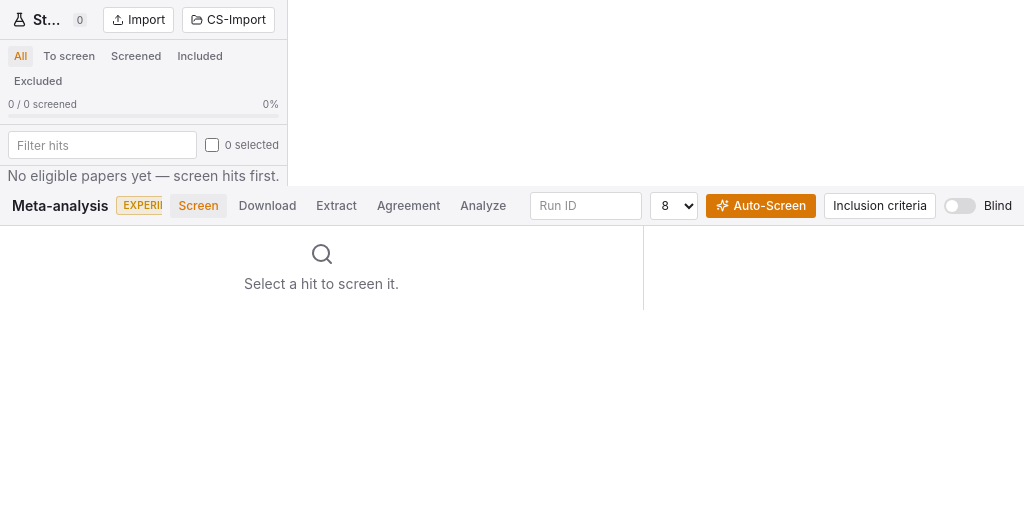
Test: MetaView analyze tab › renders an analyze error banner and drops the old domain/family filters
Step 1. Click the button "Analyze" → click(483, 206), box [452,194,514,218]
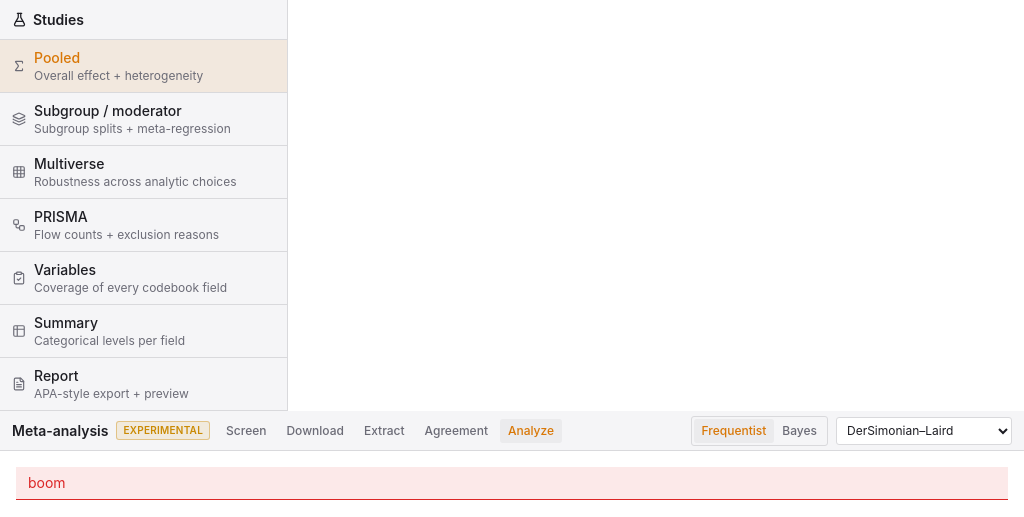
Expected: the text "boom" is shown, [28,474,66,491]
